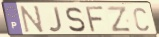C: (132, 6, 150, 32)
F: (86, 6, 107, 34)
J: (48, 6, 64, 34)
N: (20, 5, 45, 35)
S: (65, 6, 87, 34)
Z: (106, 6, 133, 34)
